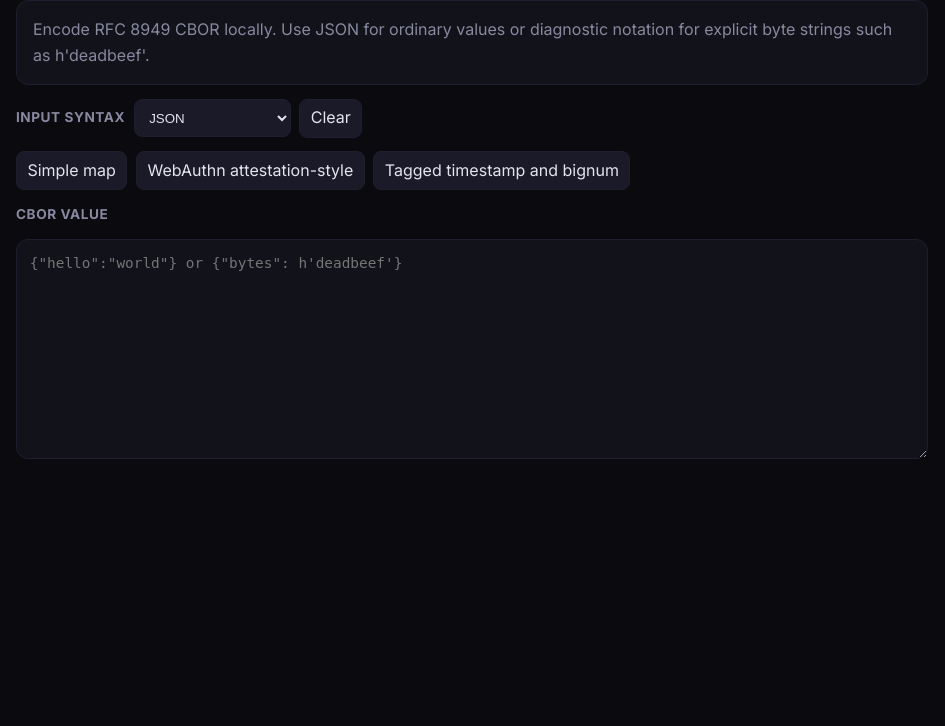
it: CborEncoderTool encoding and errors › loads all round-trip samples and can clear the editor
This screenshot has width=945, height=726.
Click the button "WebAuthn attestation-style" at (250, 171), box [136,151,365,190]
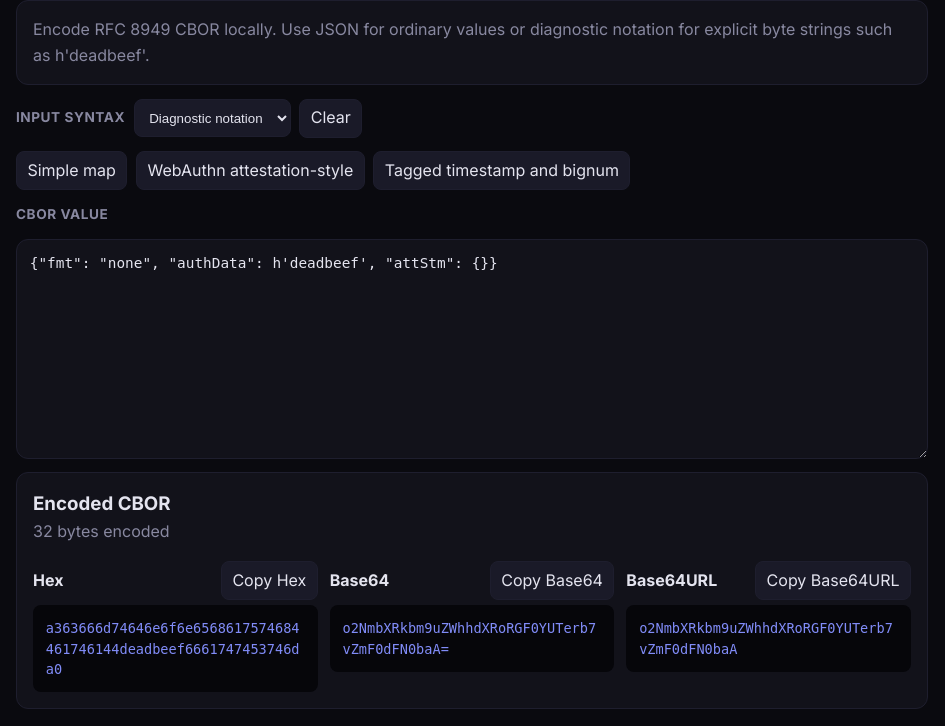
Expected: the text named "Hex output" shows "44deadbeef", [46,620,300,677]
Click the button "Tagged timestamp and bignum" at (502, 171), box [374,151,630,190]
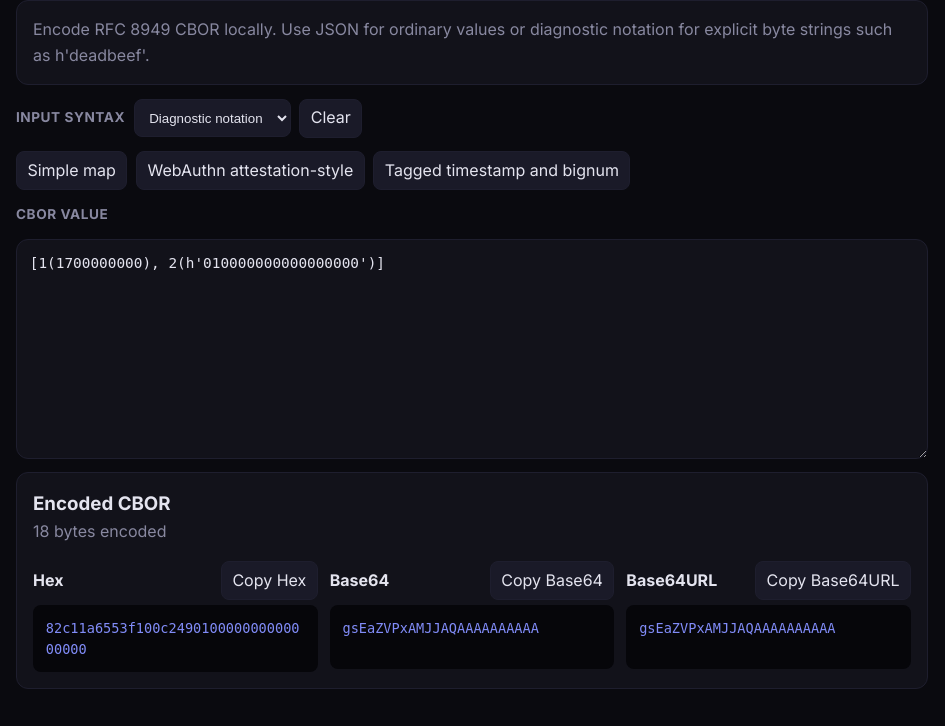
Expected: the text named "Hex output" shows "c249010000000000000000", [46,620,300,657]
Click the button "Clear" at (331, 118), box [299,99,362,138]
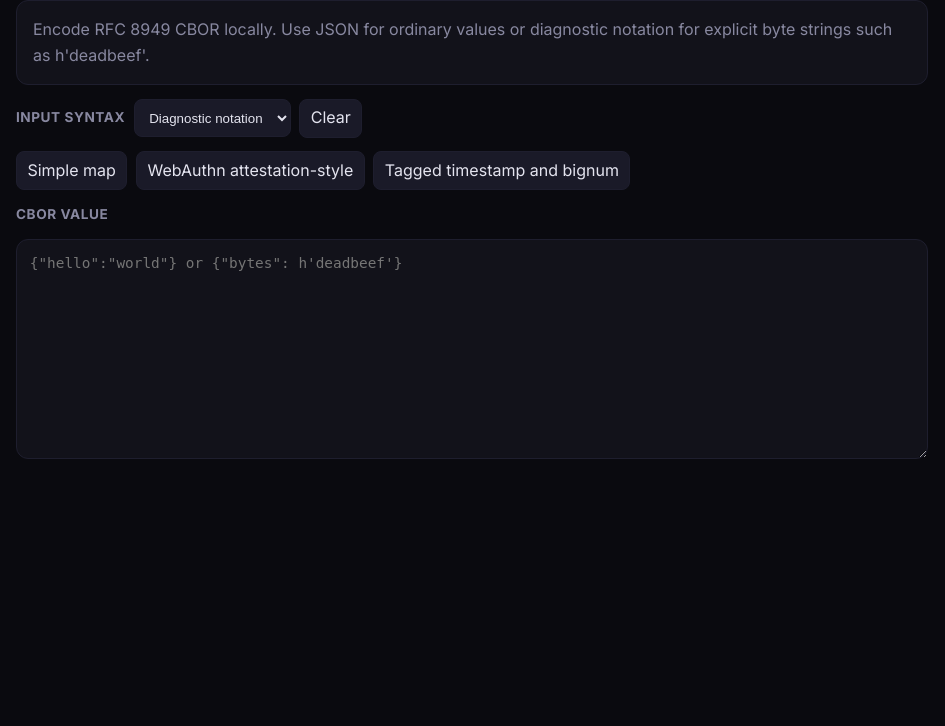
Expected: the text box labelled "CBOR value" is empty, [16,239,928,459]
